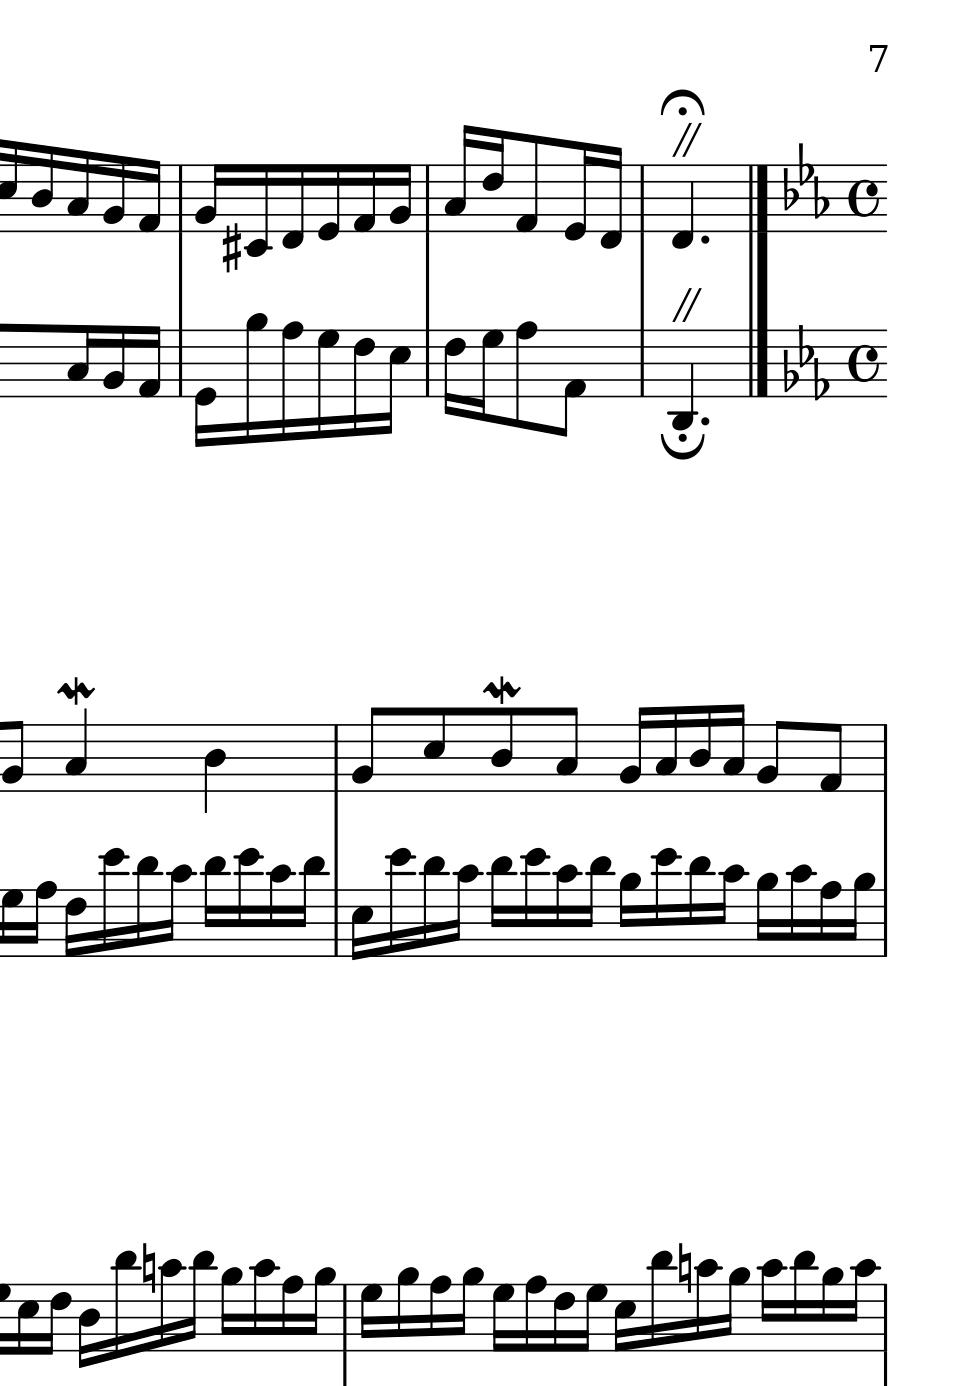16_-1: (598, 143, 624, 252), (281, 162, 307, 251)
16_-2: (244, 162, 269, 258)
16_0: (562, 140, 592, 242), (193, 327, 217, 448), (315, 161, 342, 242)
16_1: (136, 157, 162, 235), (136, 323, 162, 402), (351, 162, 377, 234)
16_10: (449, 864, 480, 959), (715, 864, 746, 959), (848, 1258, 879, 1352), (163, 863, 193, 959), (251, 1258, 278, 1354), (552, 863, 578, 959), (788, 863, 815, 959), (266, 862, 292, 958), (157, 1258, 182, 1353), (694, 1258, 719, 1353), (759, 1258, 784, 1353)
16_11: (294, 854, 325, 960), (183, 1249, 213, 1357), (581, 853, 611, 959), (132, 854, 159, 960), (418, 853, 445, 959), (202, 853, 228, 960), (685, 853, 712, 959), (488, 854, 514, 959), (112, 1250, 138, 1359), (648, 1249, 673, 1354), (790, 1249, 815, 1354)
16_12: (385, 846, 413, 960), (98, 848, 126, 958), (521, 846, 548, 959), (652, 847, 679, 958), (234, 849, 261, 957)
16_2: (617, 705, 649, 794), (193, 162, 224, 232), (101, 153, 126, 233), (102, 323, 126, 399), (387, 163, 412, 232)
16_3: (441, 122, 476, 233), (65, 322, 97, 399), (64, 148, 91, 233), (720, 702, 746, 793), (653, 704, 679, 793)
16_4: (30, 143, 55, 234), (688, 702, 713, 793), (76, 1282, 100, 1369)
16_5: (379, 328, 412, 435), (349, 888, 375, 962), (15, 1282, 39, 1356), (612, 1283, 637, 1354), (1, 138, 19, 234)
16_6: (351, 327, 375, 439), (480, 126, 505, 233), (40, 1281, 72, 1356), (441, 328, 466, 418), (63, 888, 87, 959), (552, 1282, 576, 1353)
16_7: (471, 328, 503, 423), (315, 327, 340, 441), (578, 1282, 607, 1354), (490, 1282, 514, 1354), (358, 1282, 383, 1353), (1, 887, 23, 959)
16_8: (279, 320, 303, 445), (27, 880, 57, 958), (522, 1274, 547, 1354), (279, 1274, 303, 1353), (817, 880, 841, 958), (427, 1275, 451, 1353)
16_9: (243, 311, 268, 446), (307, 1266, 336, 1353), (720, 1267, 750, 1354), (454, 1266, 483, 1354), (845, 872, 874, 959), (819, 1267, 845, 1354), (617, 870, 643, 959), (393, 1266, 419, 1353), (754, 872, 778, 959), (218, 1267, 243, 1354)
4_-1: (669, 162, 695, 250)
4_-3: (668, 326, 696, 434)
4_3: (63, 707, 88, 793)
4_4: (202, 722, 227, 815)
7: (867, 41, 889, 74)
8_1: (556, 327, 587, 438), (513, 134, 539, 235), (816, 722, 842, 795)
8_2: (351, 705, 385, 793), (755, 719, 787, 793), (2, 719, 24, 796)
8_3: (553, 705, 579, 794)
8_4: (488, 706, 515, 794)
8_5: (421, 705, 447, 794)
8_8: (512, 320, 537, 429)
Caesura: (670, 287, 703, 324), (670, 121, 703, 157)
E_F: (781, 141, 832, 224), (778, 324, 832, 401)
Fermata_above: (658, 88, 706, 119), (657, 433, 708, 460)
Mordent: (56, 674, 95, 707), (482, 673, 520, 705)
Natural: (139, 1240, 157, 1295), (676, 1241, 693, 1296)
Sharp: (221, 222, 240, 274)
Single_barline: (327, 725, 344, 793), (171, 330, 188, 397), (172, 164, 188, 233), (419, 164, 435, 233), (419, 329, 435, 398), (877, 723, 893, 792), (328, 889, 344, 958), (337, 1284, 353, 1352), (877, 1284, 893, 1352), (877, 890, 892, 957)
TimeSig: (844, 163, 883, 231), (845, 330, 882, 399)
dot: (697, 233, 713, 245), (696, 415, 712, 426)
